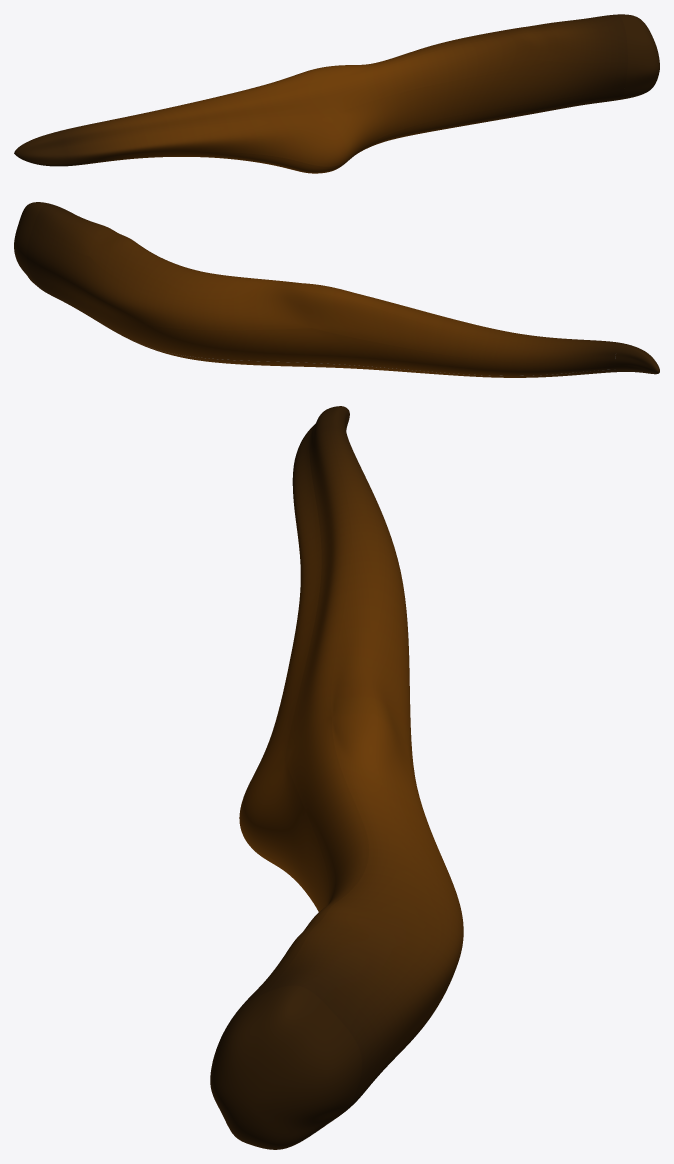
Rendered from Twig_SmoothRM.fbx.
3 renders of one model, top to bottom at view 1: azimuth 30°, elevation 25°; view 2: azimuth 150°, elevation 25°; view 3: azimuth 270°, elevation 25°, orthographic. The views are drawn at different scales.
Parts seen in each view (by area): view 1: TwigStick_RM; view 2: TwigStick_RM; view 3: TwigStick_RM.
Part boxes in pixels (x1,y1,x2,y2): TwigStick_RM: (14,14,659,173); TwigStick_RM: (14,202,659,377); TwigStick_RM: (210,406,463,1149).
Bounding box in the file's own units: 2.49 × 0.3835 × 0.4409.
